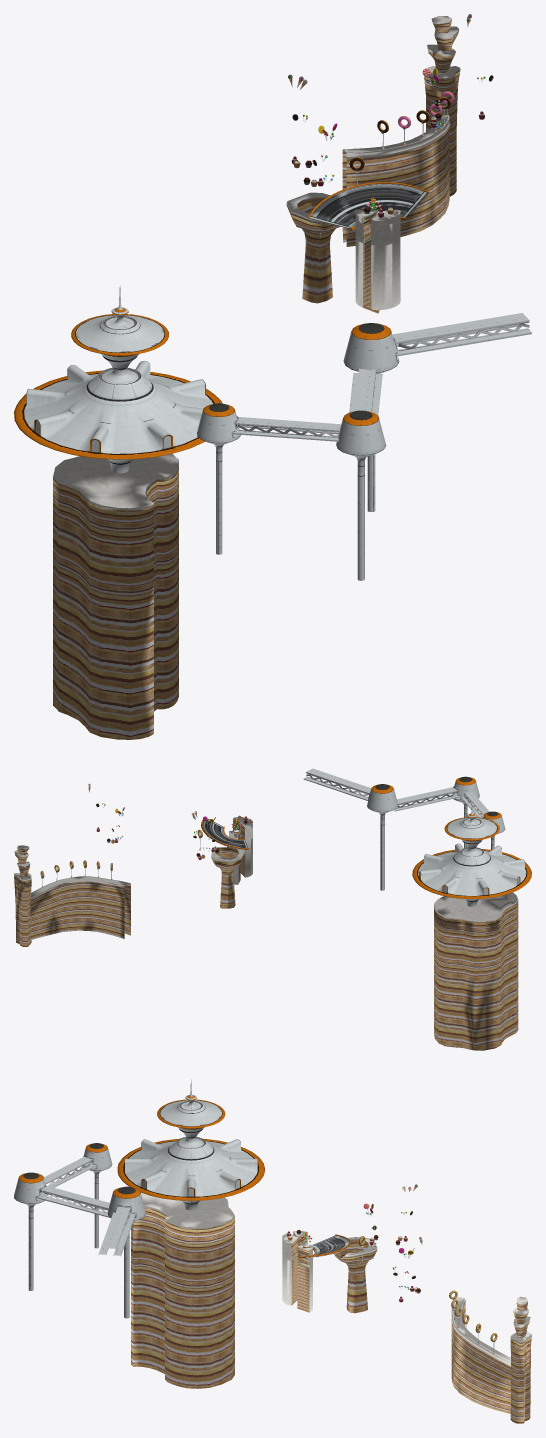
Rendered from stg210_18.obj.
The picture shows the model from 3 angles, top to bottom: view 1: azimuth 30°, elevation 25°; view 2: azimuth 150°, elevation 25°; view 3: azimuth 270°, elevation 25°; orthographic projection. The views are drawn at different scales.
Parts seen in each view (by area): view 1: polygon93, polygon162, polygon0, polygon101, polygon95, polygon126, polygon1, polygon160, polygon159, polygon8, polygon96, polygon7 (+2 smaller); view 2: polygon93, polygon101, polygon162, polygon0, polygon95, polygon96, polygon159, polygon160, polygon1, polygon8, polygon126, polygon7 (+1 smaller); view 3: polygon93, polygon162, polygon0, polygon101, polygon96, polygon95, polygon159, polygon1, polygon160, polygon8, polygon126, polygon128 (+3 smaller).
Part boxes in pixels (<box>): polygon93: <box>53,469,178,739</box>; polygon162: <box>24,285,212,453</box>; polygon0: <box>197,313,531,457</box>; polygon101: <box>342,127,449,246</box>; polygon95: <box>54,453,178,508</box>; polygon126: <box>355,209,400,309</box>; polygon1: <box>214,320,531,580</box>; polygon160: <box>34,307,172,473</box>; polygon159: <box>14,308,222,459</box>; polygon8: <box>287,197,339,303</box>; polygon96: <box>424,21,460,196</box>; polygon7: <box>238,322,529,437</box>; polygon93: <box>434,902,518,1050</box>; polygon101: <box>30,882,130,939</box>; polygon162: <box>418,801,526,895</box>; polygon0: <box>304,768,504,831</box>; polygon95: <box>434,892,517,920</box>; polygon96: <box>14,849,31,946</box>; polygon159: <box>412,814,531,898</box>; polygon160: <box>419,813,519,906</box>; polygon1: <box>303,772,494,890</box>; polygon8: <box>211,846,243,908</box>; polygon126: <box>229,817,252,884</box>; polygon7: <box>306,773,482,817</box>; polygon93: <box>131,1208,234,1388</box>; polygon162: <box>124,1079,257,1196</box>; polygon0: <box>14,1148,145,1255</box>; polygon101: <box>451,1301,510,1413</box>; polygon96: <box>510,1303,531,1423</box>; polygon95: <box>141,1193,233,1227</box>; polygon159: <box>117,1095,264,1200</box>; polygon1: <box>28,1159,135,1318</box>; polygon160: <box>141,1095,240,1210</box>; polygon8: <box>334,1239,376,1313</box>; polygon126: <box>282,1231,312,1312</box>; polygon128: <box>291,1238,309,1312</box>.
Size of the model in its own units: 7658 by 4837 by 7387.
42 materials, 42 textured.
